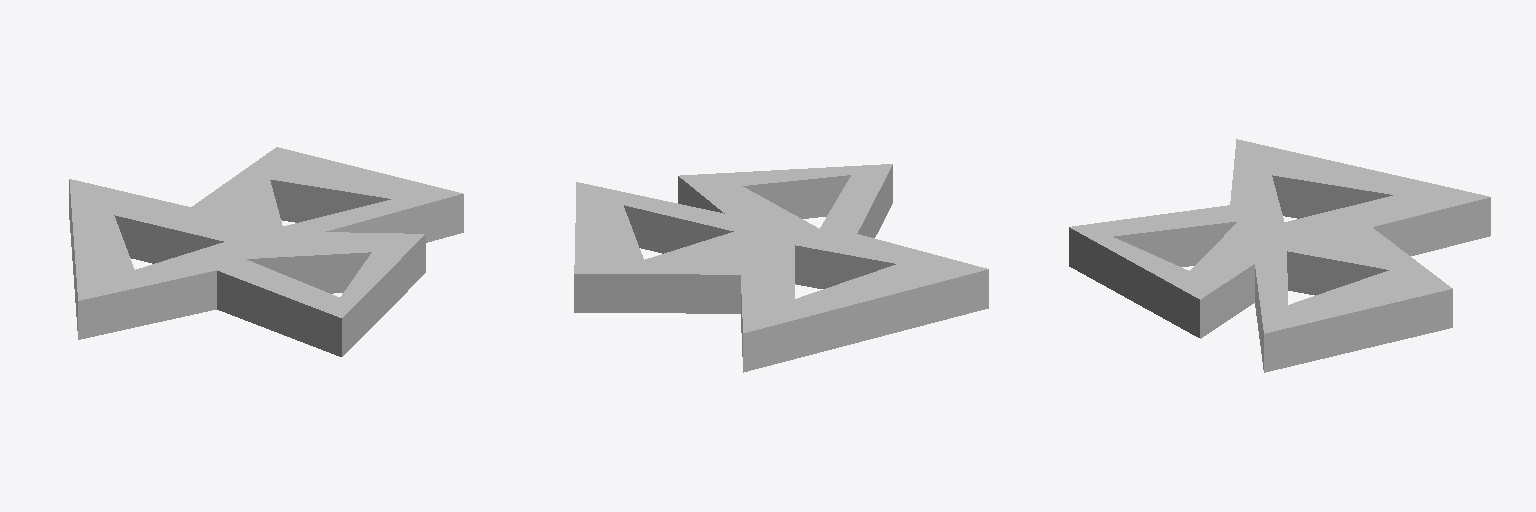
Rendered from trithing_innerA.obj.
The picture shows the model from 3 angles: view 1: azimuth 30°, elevation 25°; view 2: azimuth 150°, elevation 25°; view 3: azimuth 270°, elevation 25°; orthographic projection.
Bounding box in the file's own units: 7.02 × 0.6573 × 6.44.